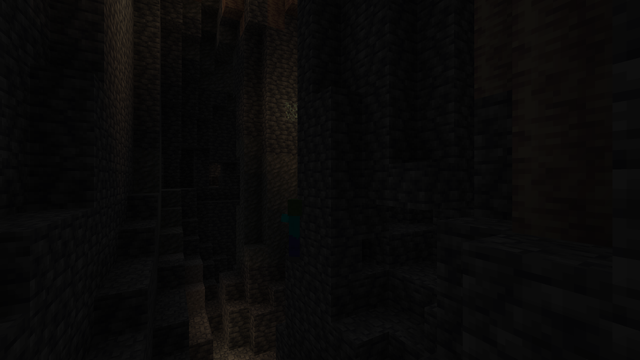zombies: (285, 200, 301, 265)
